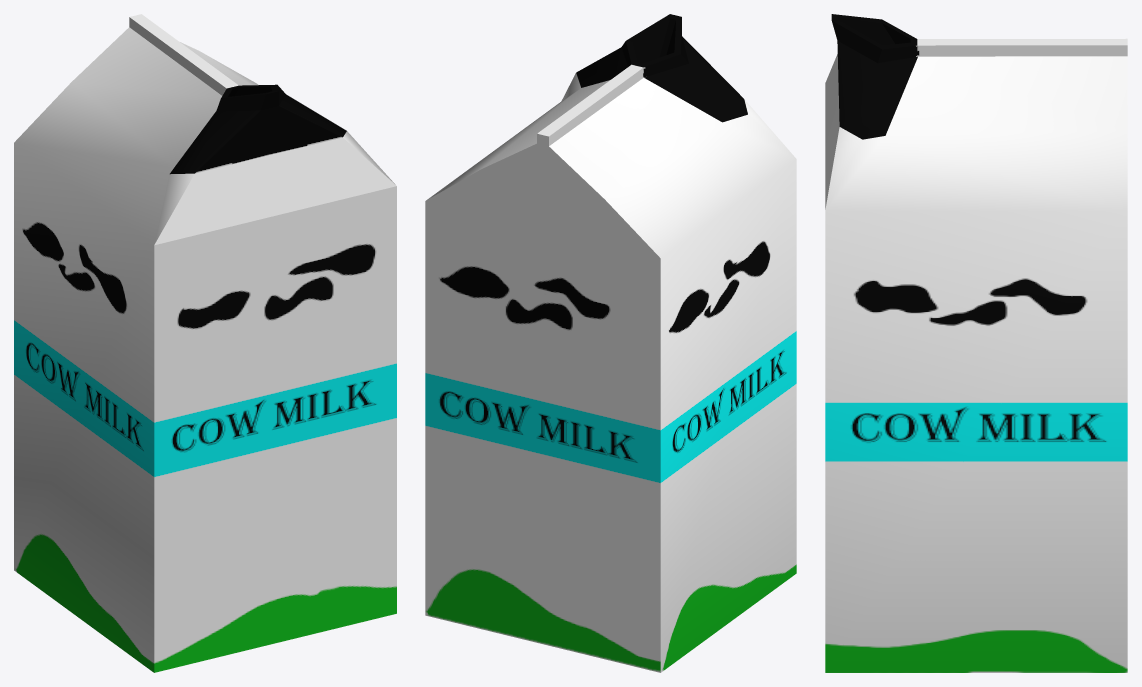
Rendered from milk_carton.FBX.
3 renders of one model, left to right at view 1: azimuth 30°, elevation 25°; view 2: azimuth 150°, elevation 25°; view 3: azimuth 270°, elevation 25°, orthographic. The views are drawn at different scales.
Visible parts, largest first — view 1: Box001; view 2: Box001; view 3: Box001.
Boxes of the visible parts, box(x1,y1,x2,y2) form: Box001: box(14, 14, 396, 672); Box001: box(425, 14, 796, 672); Box001: box(825, 14, 1127, 672).
Bounding box in the file's own units: 5.4 × 11.65 × 5.4.
